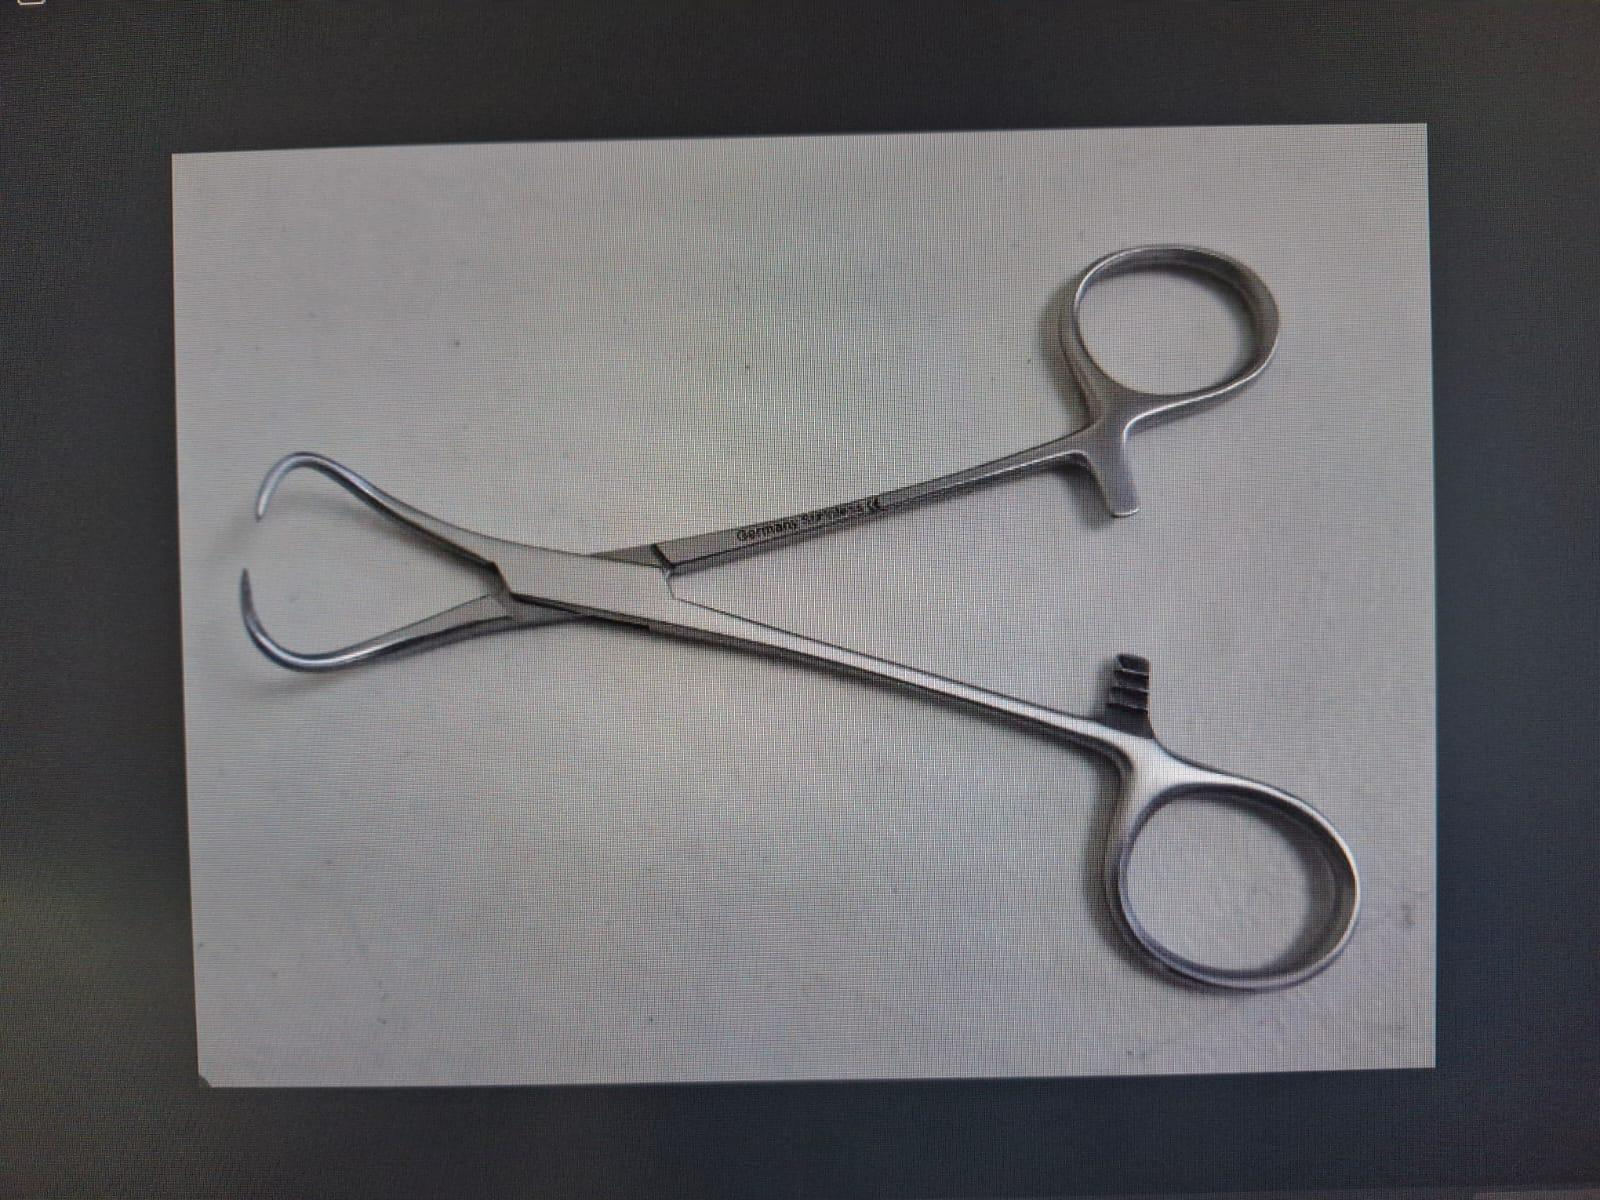Backhaus: (228, 230, 1370, 1002)
